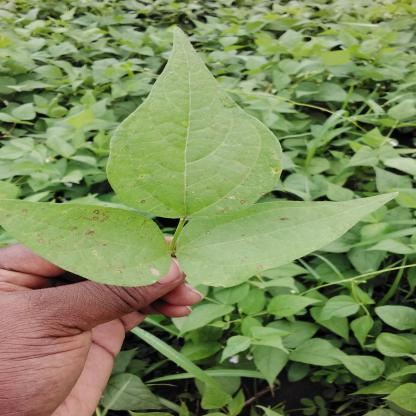Beans_Angular_LeafSpot: (5, 204, 172, 277), (124, 180, 276, 221), (232, 212, 333, 269)
